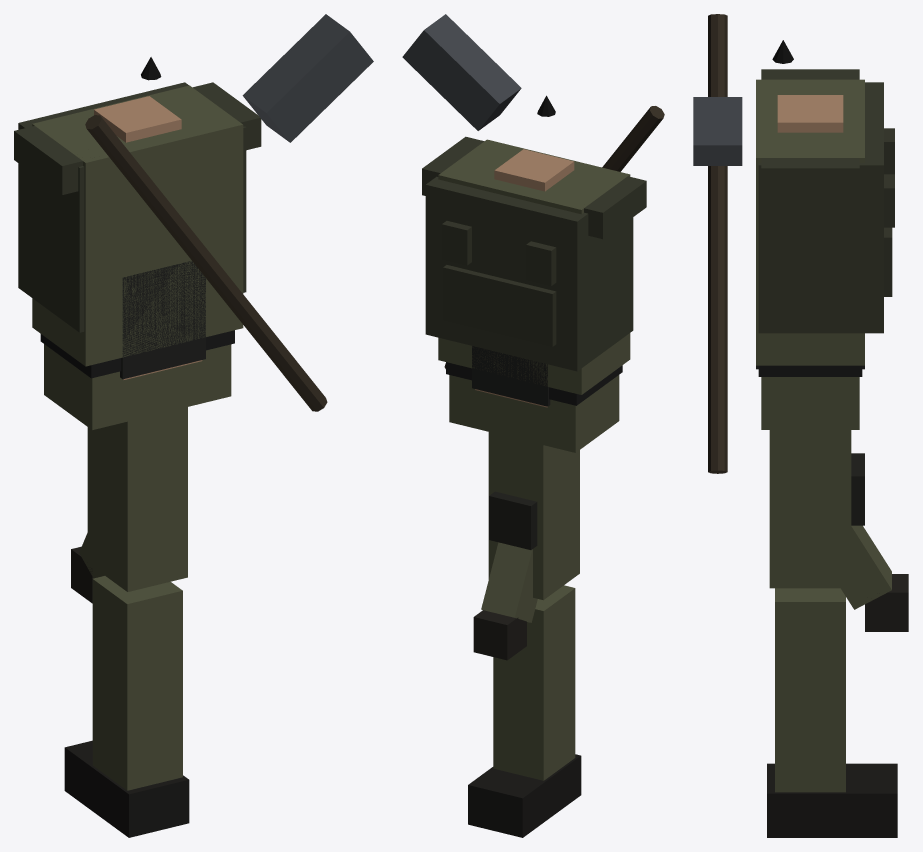
Rendered from operator_sledge.glb.
3 renders of one model, left to right at view 1: azimuth 30°, elevation 25°; view 2: azimuth 150°, elevation 25°; view 3: azimuth 270°, elevation 25°, orthographic. The views are drawn at different scales.
Parts seen in each view (by area): view 1: torso, legL, hips, head, armL; view 2: torso, legL, hips, armL, head; view 3: torso, legL, hips, armL.
Part boxes in pixels (x1=…): torso: x1=14, y1=14, x2=373, y2=411; legL: x1=64, y1=407, x2=189, y2=837; hips: x1=40, y1=330, x2=234, y2=430; head: x1=120, y1=261, x2=205, y2=379; armL: x1=71, y1=533, x2=104, y2=603; torso: x1=402, y1=14, x2=664, y2=394; legL: x1=468, y1=432, x2=581, y2=837; hips: x1=446, y1=362, x2=622, y2=452; armL: x1=473, y1=542, x2=537, y2=660; head: x1=472, y1=346, x2=550, y2=407; torso: x1=693, y1=14, x2=894, y2=473; legL: x1=767, y1=430, x2=897, y2=837; hips: x1=758, y1=365, x2=862, y2=429; armL: x1=841, y1=525, x2=908, y2=631.
Size of the model in its own units: 0.6009 by 1.62 by 0.395.
